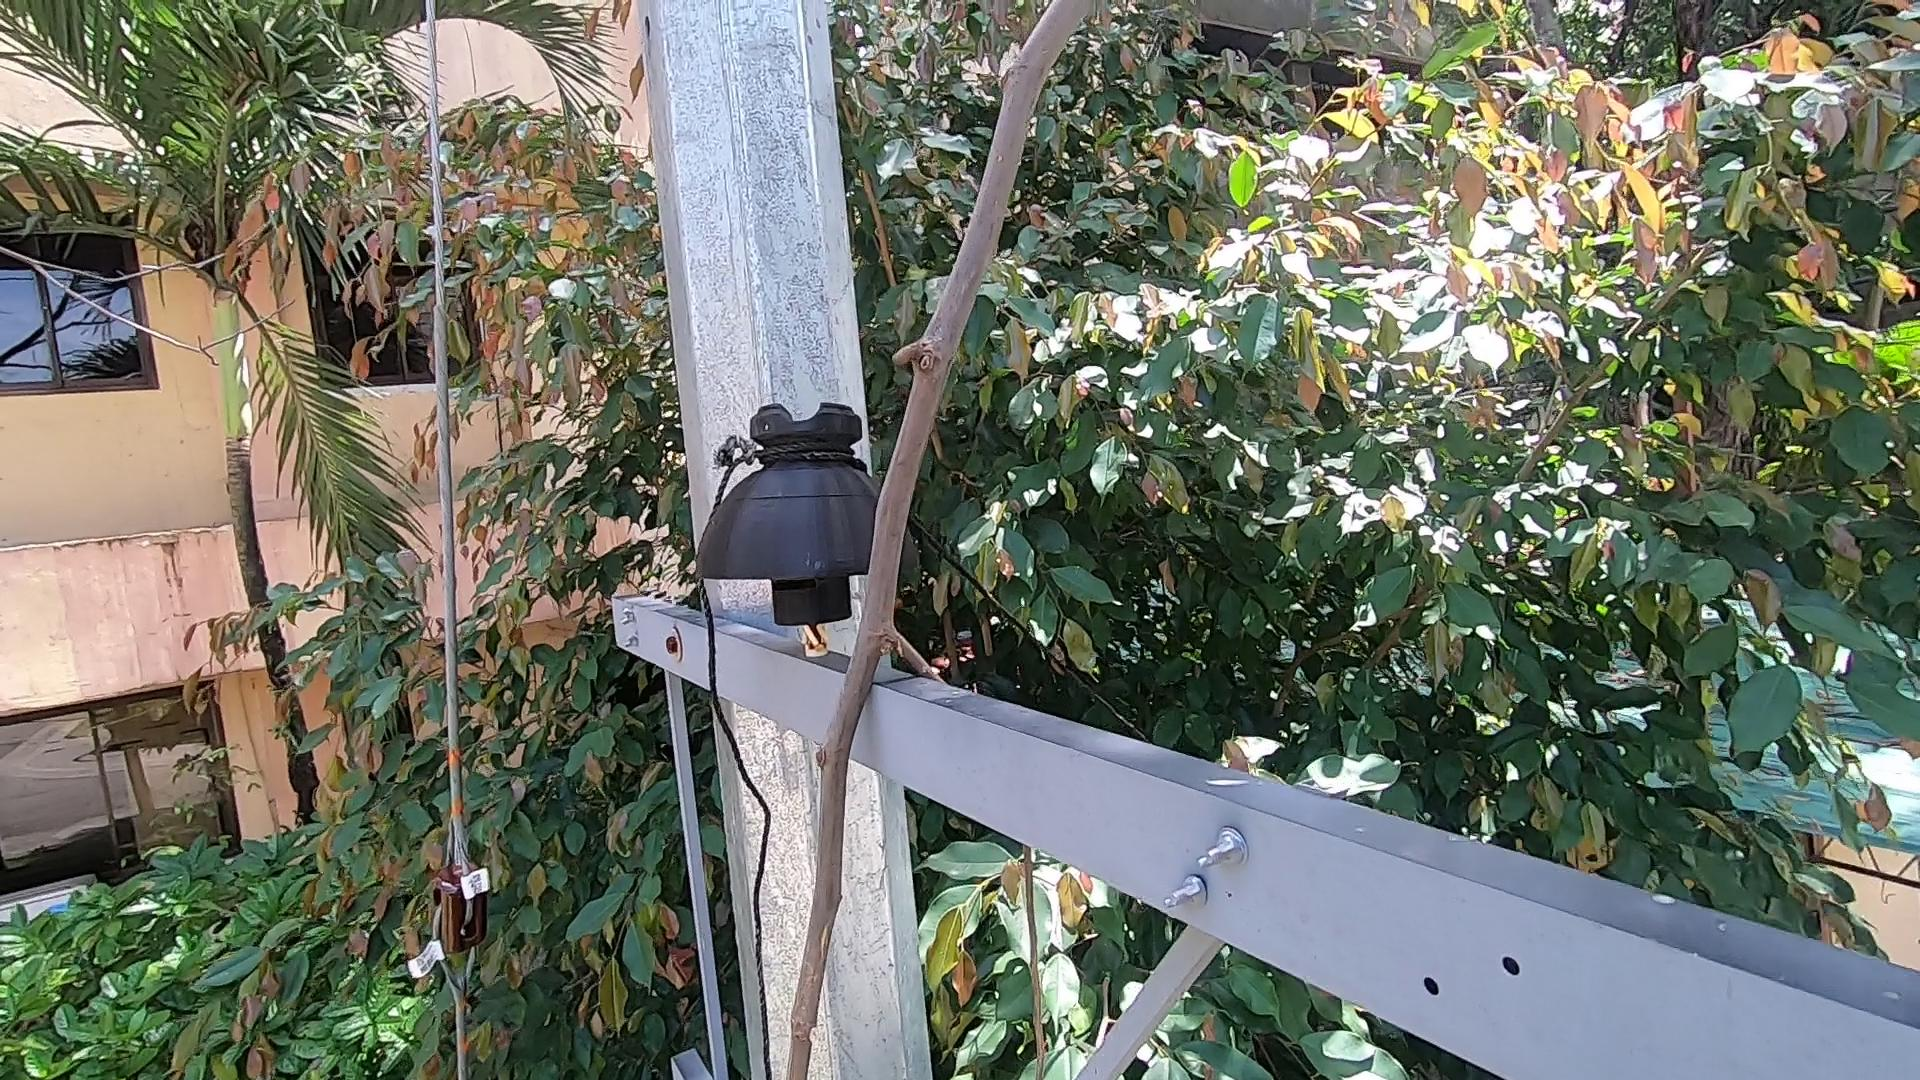tree branch: (738, 1, 1077, 1080)
